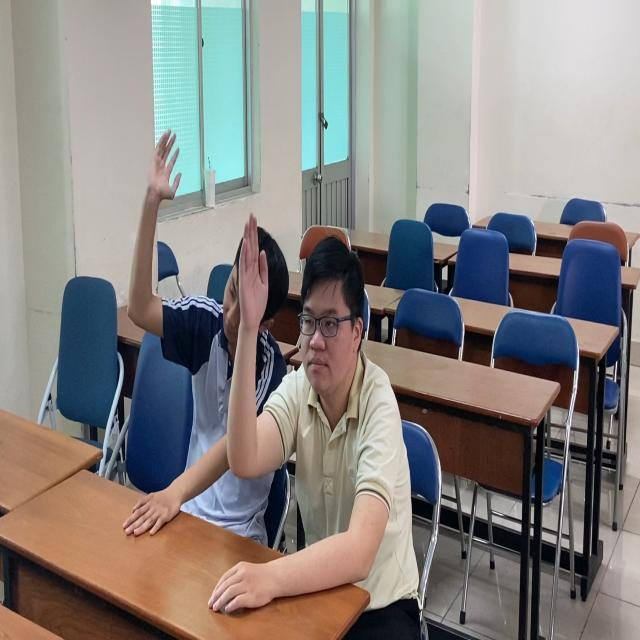raise_hand: (230, 210, 391, 569)
